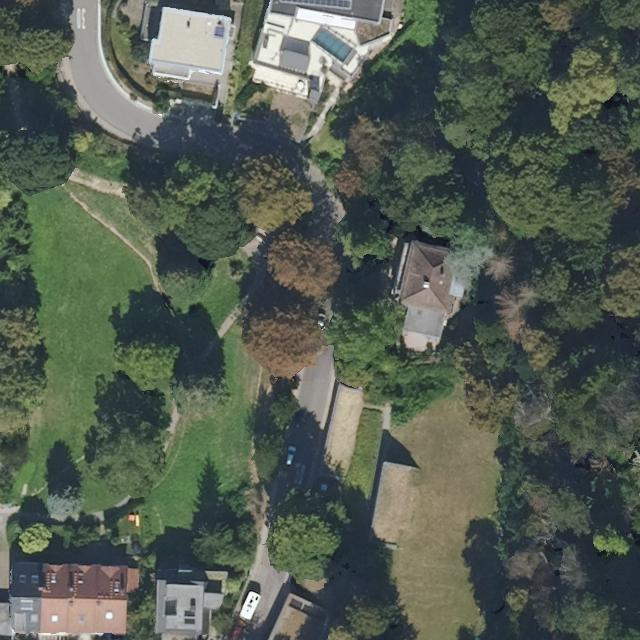PV: (278, 1, 352, 9)
